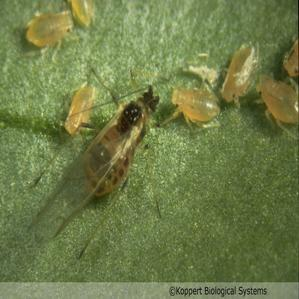Green peach aphid: (61, 79, 163, 222), (244, 69, 299, 144), (162, 75, 222, 139), (46, 70, 102, 137), (209, 41, 259, 116), (18, 0, 76, 63), (61, 0, 96, 33)
